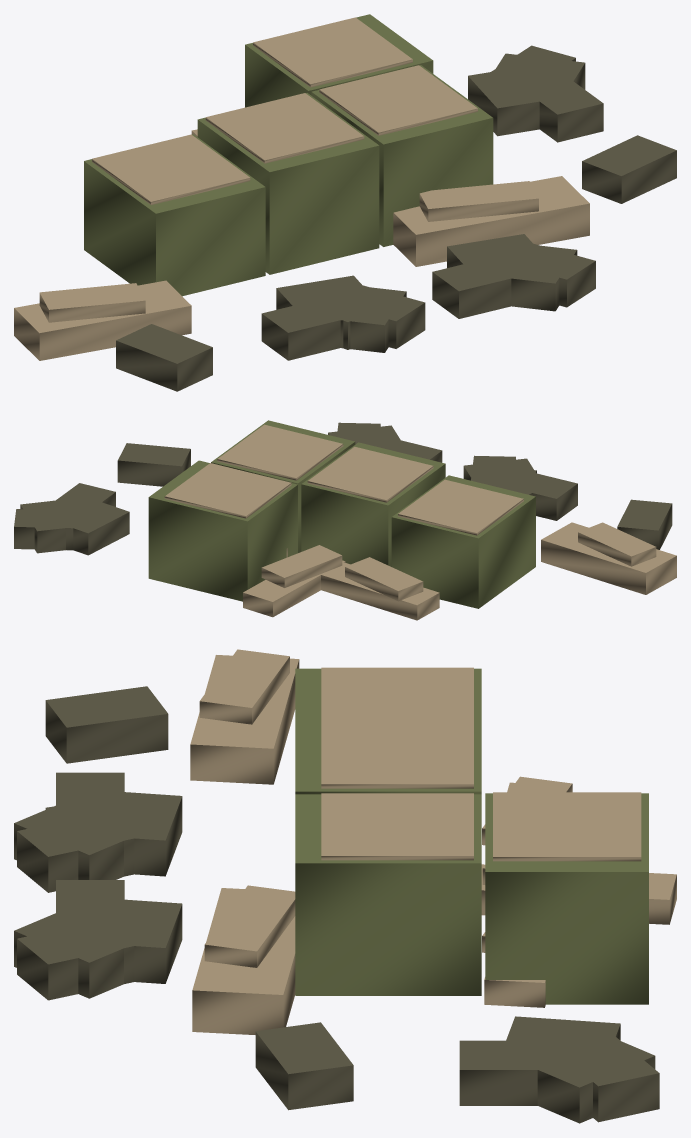
Rendered from SM_HescoRemateEspejo_v3_RemateSacos_e2_MuyDanado_LOD1.fbx.
The picture shows the model from 3 angles, top to bottom: view 1: azimuth 30°, elevation 25°; view 2: azimuth 150°, elevation 25°; view 3: azimuth 270°, elevation 25°; orthographic projection. The views are drawn at different scales.
Parts seen in each view (by area): view 1: SM_hesco_piezas_v34_LOD1; view 2: SM_hesco_piezas_v34_LOD1; view 3: SM_hesco_piezas_v34_LOD1.
Part boxes in pixels (x1,y1,x2,y2): SM_hesco_piezas_v34_LOD1: (14, 14, 676, 391); SM_hesco_piezas_v34_LOD1: (14, 420, 676, 620); SM_hesco_piezas_v34_LOD1: (14, 649, 676, 1123).
Bounding box in the file's own units: 6.71 × 0.988 × 4.34.
